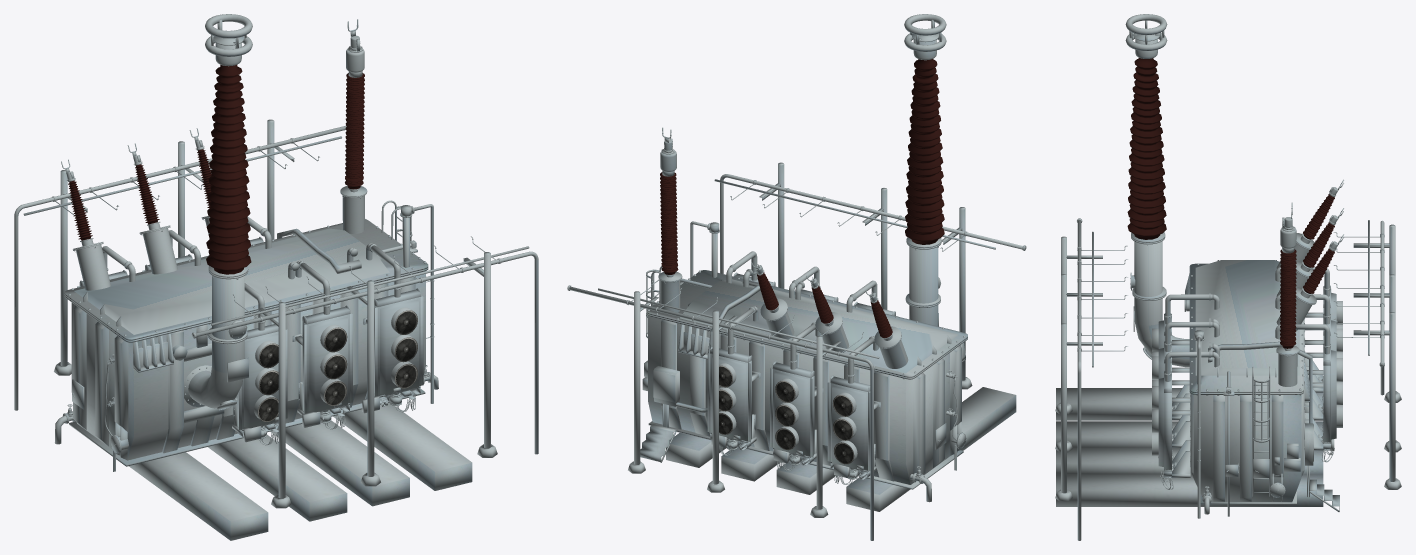
Rendered from 主变压器.FBX.
The picture shows the model from 3 angles, left to right: view 1: azimuth 30°, elevation 25°; view 2: azimuth 150°, elevation 25°; view 3: azimuth 270°, elevation 25°; orthographic projection. The views are drawn at different scales.
Parts seen in each view (by area): view 1: Cylinder014, Box309, 对象19003, Cylinder1078, Box291, Cylinder1293, Cylinder1292, Box254, Box290, Box289, Cylinder1294, Cylinder1143 (+10 smaller); view 2: Cylinder014, Box309, 对象19003, Cylinder1290, Cylinder1291, Cylinder1078, Cylinder1289, Box291, Cylinder1286, Cylinder1143, 主变压器, Box229 (+10 smaller); view 3: Cylinder014, 对象19003, Box254, Cylinder1078, Box309, Cylinder1292, Box289, Box291, Cylinder1289, Box290, Cylinder1143, Cylinder1293 (+18 smaller).
Part boxes in pixels (x1,y1,x2,y2): Cylinder014: [64, 219, 428, 466]; Box309: [60, 119, 490, 498]; 对象19003: [206, 65, 251, 274]; Cylinder1078: [184, 14, 252, 410]; Box291: [129, 452, 268, 540]; Cylinder1293: [292, 260, 352, 429]; Cylinder1292: [363, 243, 423, 412]; Box254: [333, 402, 472, 490]; Box290: [208, 434, 347, 521]; Box289: [270, 420, 409, 506]; Cylinder1294: [232, 283, 287, 445]; Cylinder1143: [191, 236, 538, 454]; Cylinder014: [646, 270, 967, 489]; Box309: [634, 162, 965, 509]; 对象19003: [905, 59, 944, 244]; Cylinder1290: [770, 322, 823, 470]; Cylinder1291: [827, 336, 880, 484]; Cylinder1078: [904, 14, 946, 326]; Cylinder1289: [707, 306, 760, 455]; Box291: [846, 387, 1016, 511]; Cylinder1286: [567, 280, 879, 540]; Cylinder1143: [714, 174, 1026, 273]; 主变压器: [660, 172, 678, 274]; Box229: [653, 281, 760, 412]; Cylinder014: [1184, 260, 1309, 504]; 对象19003: [1127, 58, 1166, 239]; Box254: [1056, 474, 1323, 506]; Cylinder1078: [1125, 14, 1189, 367]; Box309: [1061, 224, 1395, 493]; Cylinder1292: [1152, 350, 1219, 489]; Box289: [1056, 447, 1323, 474]; Box291: [1056, 388, 1323, 420]; Cylinder1289: [1275, 324, 1342, 462]; Box290: [1056, 421, 1323, 447]; Cylinder1143: [1077, 218, 1127, 540]; Cylinder1293: [1152, 321, 1219, 459].
Size of the model in its own units: 31.27 by 38.72 by 30.04.
3 materials, 2 textured.
